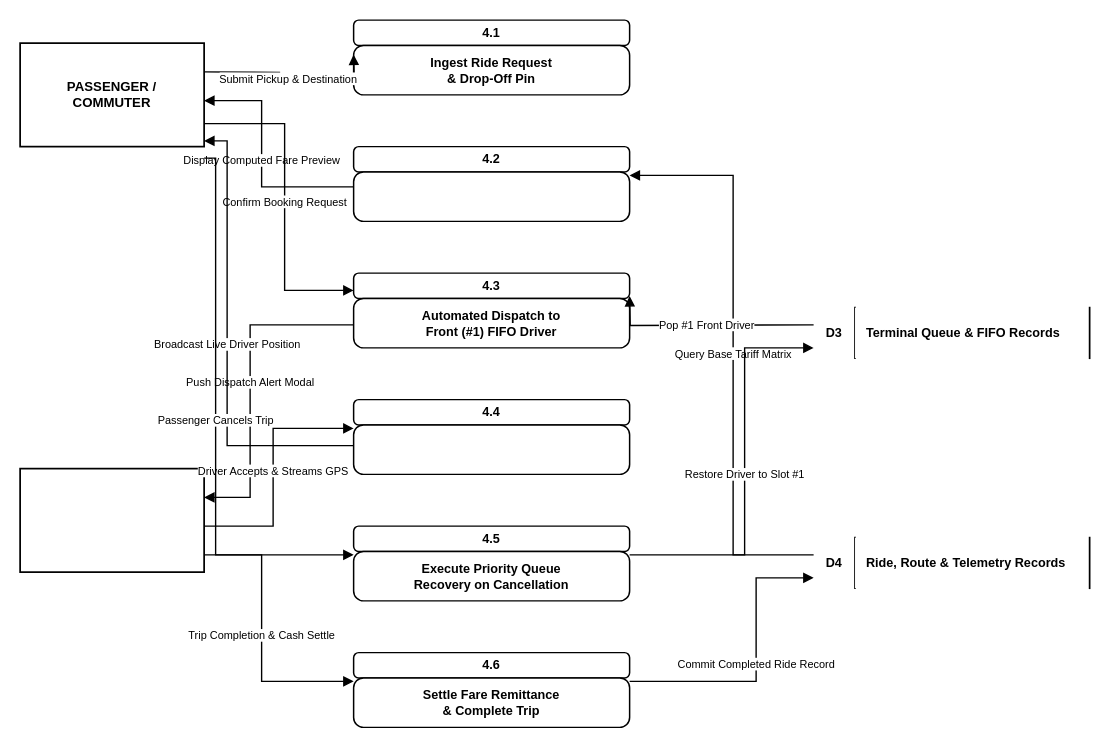
Some shapes in this 1111 by 749 pixel diagram are drawn without their labels. Each missing label, with the box of its shape:
Compute Regulated Distance-Tiered Tariff: (352, 171, 630, 222)
Stream Live GPS Route & Heading Telemetry: (352, 424, 630, 475)
TRICYCLE DRIVER: (19, 467, 204, 572)
